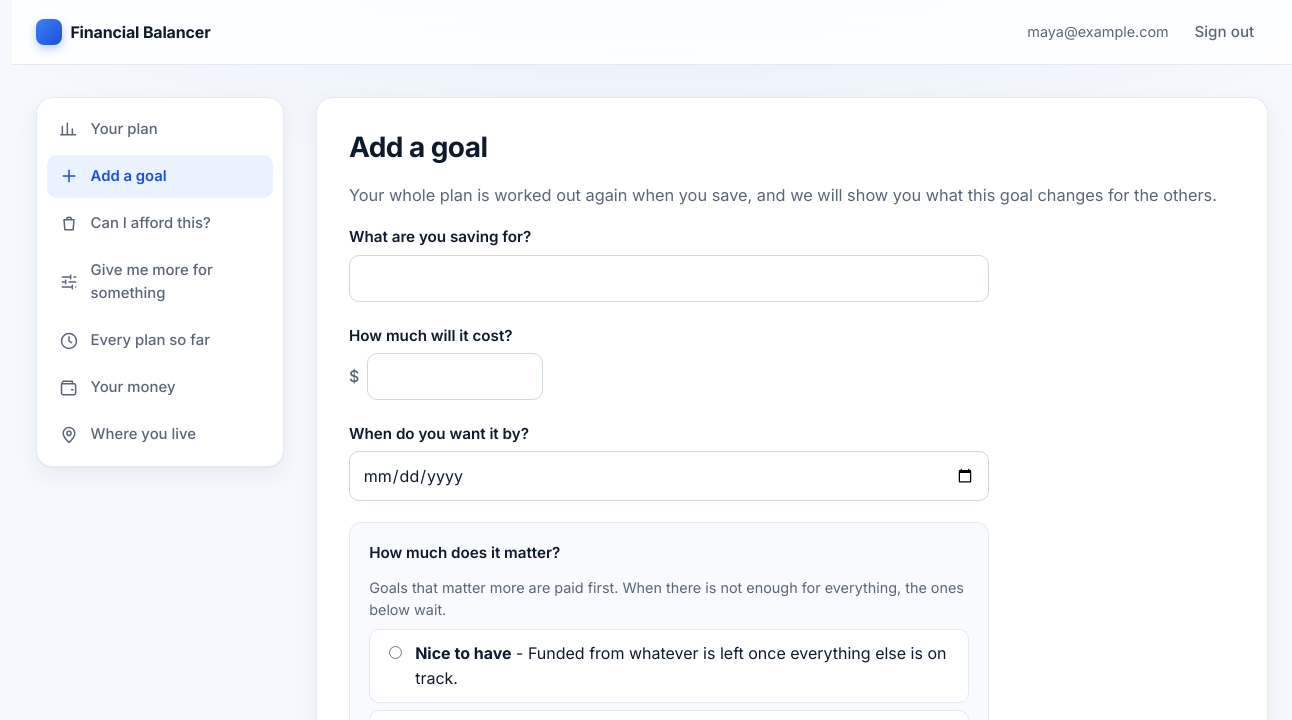
adding a goal › is sent once, however many times the button is pressed
In the field labelled "What are you saving for?": [669, 278] box [349, 255, 989, 302], type "Car"
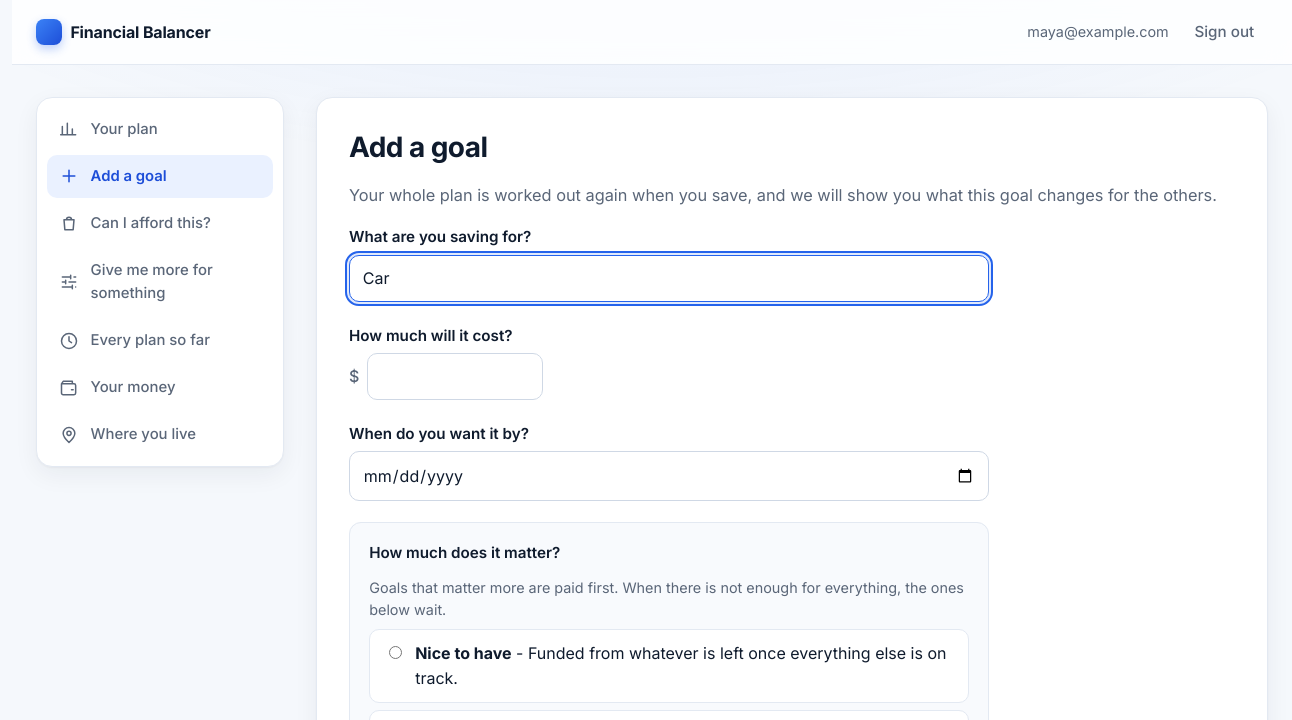
In the field labelled "How much will it cost?": [455, 377] box [367, 353, 543, 400], type "12000"
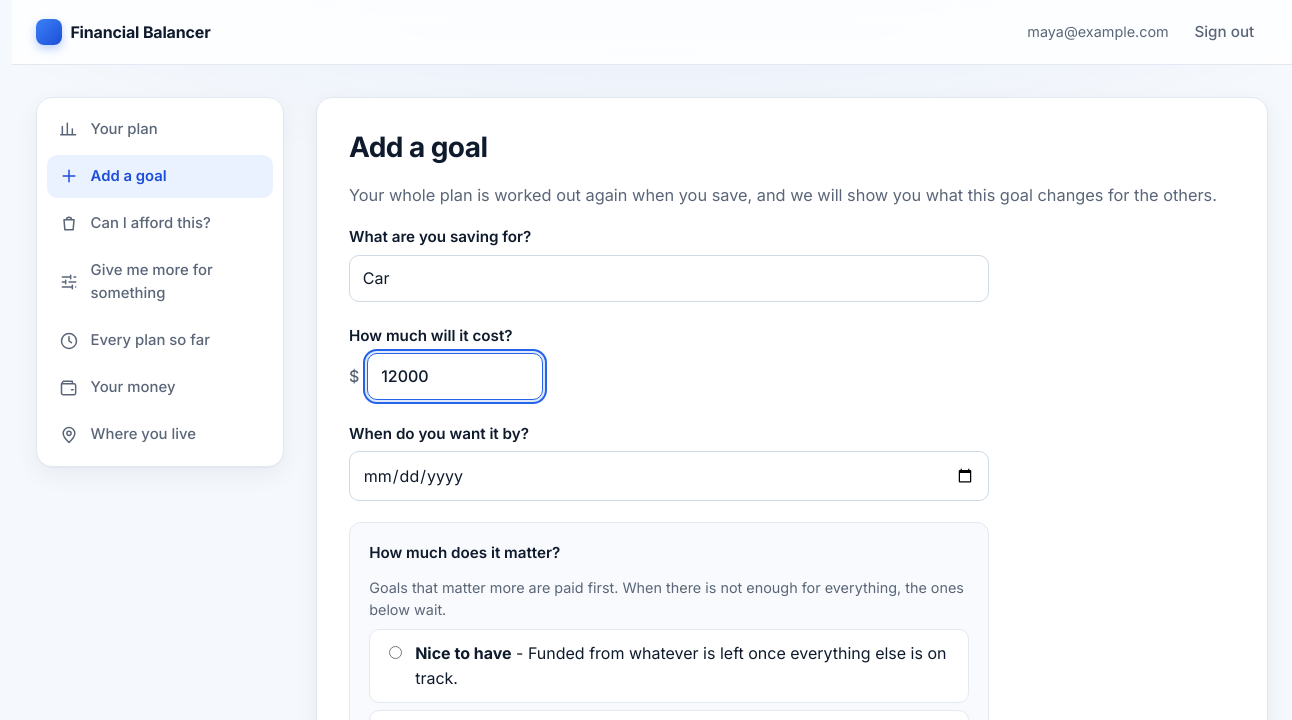
In the date field labelled "When do you want it by?": [669, 476] box [349, 451, 989, 501], type "2027-06-30"
(page scrolled)
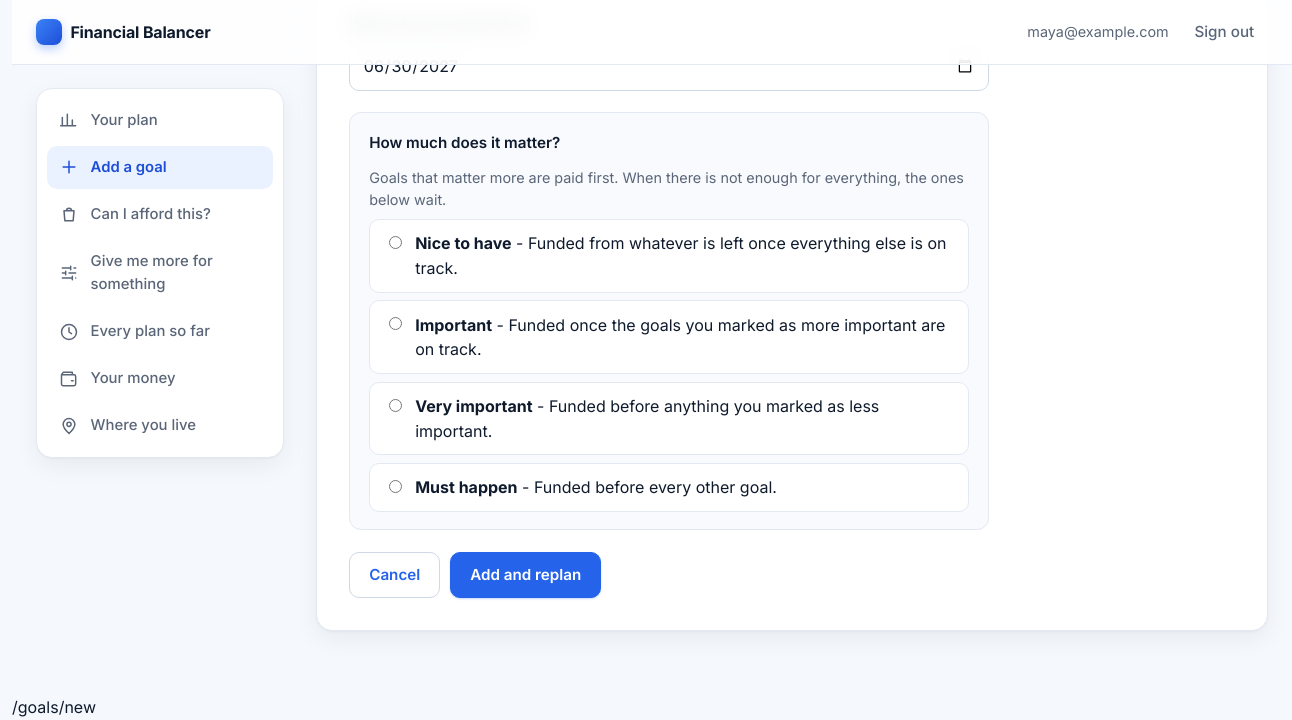
Click the radio button labelled "Very important": [395, 405] box [389, 398, 402, 412]
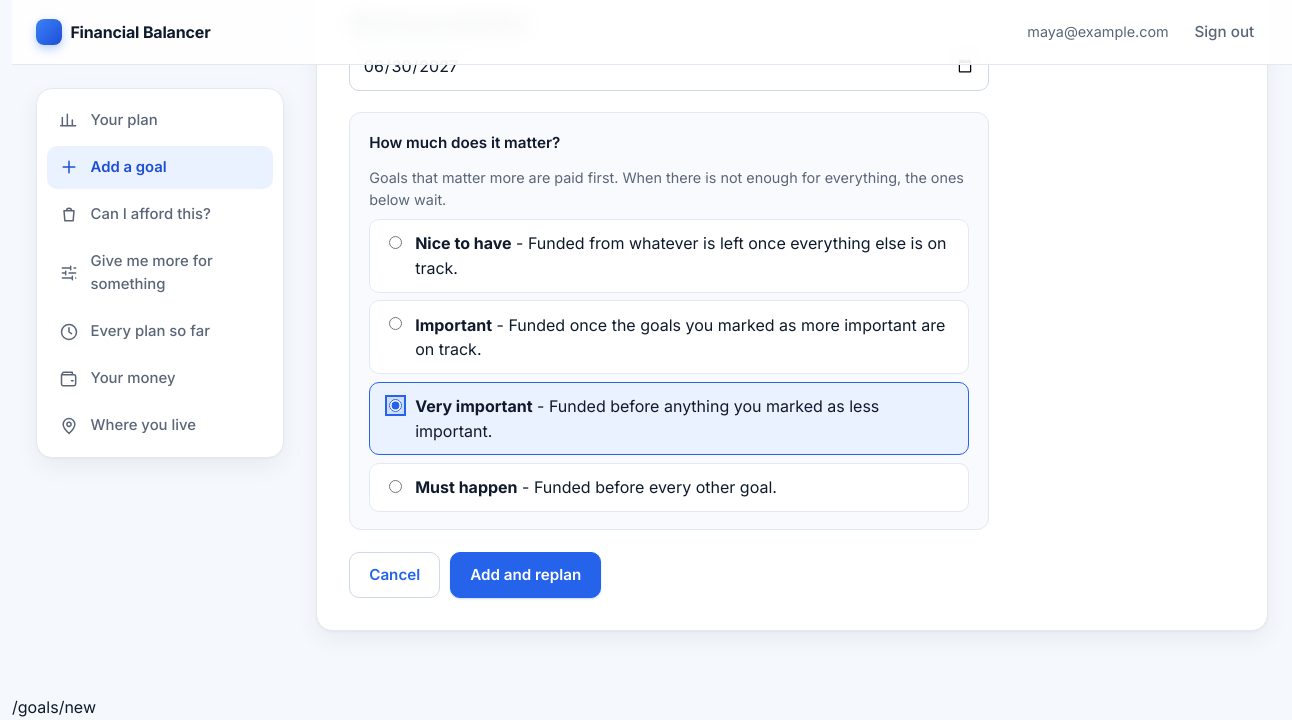
Click the button "Add and replan": [526, 575] box [450, 552, 601, 598]
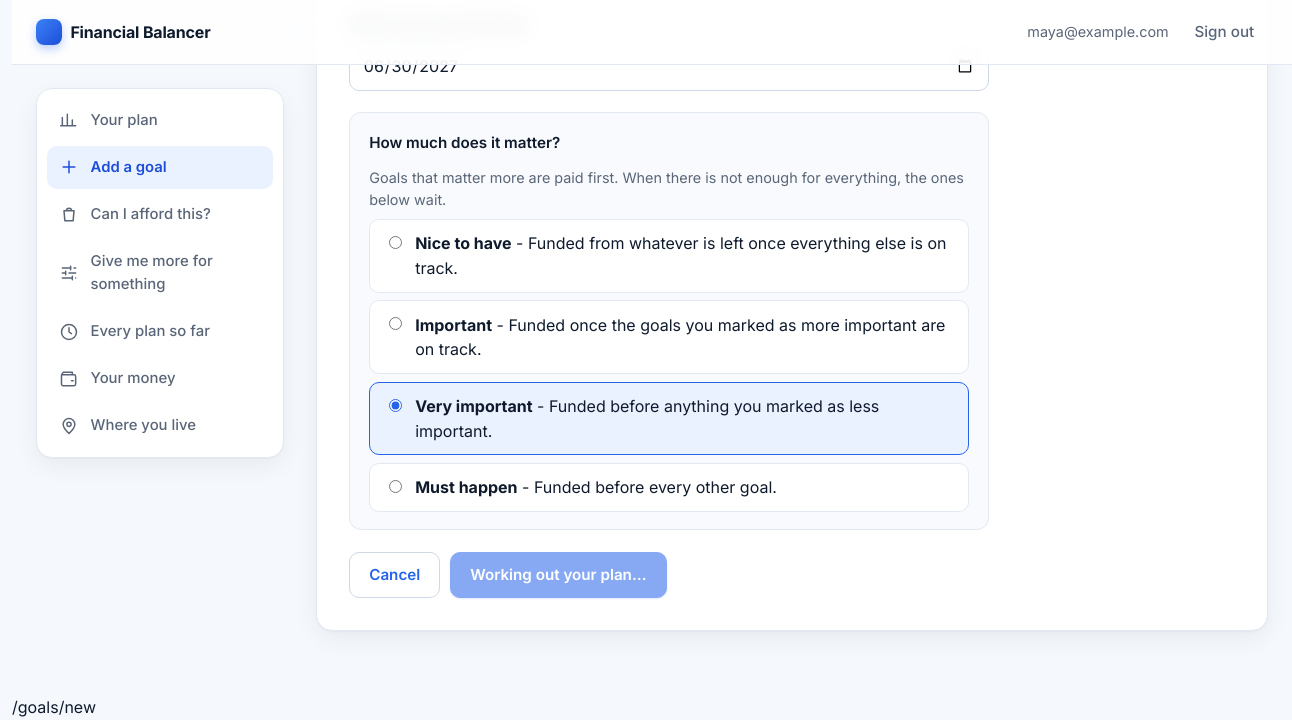
Click the button named "Add and replan": [558, 575] box [450, 552, 667, 598]
(page scrolled)
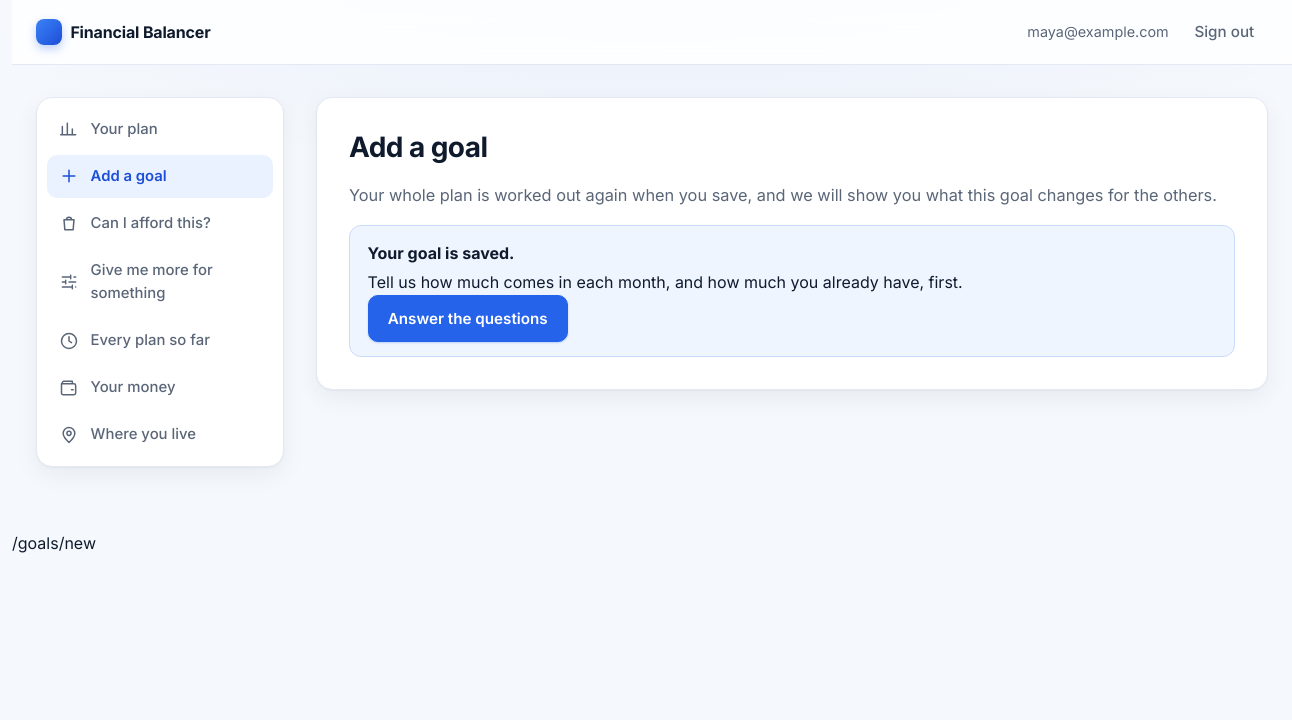
Expected: the text "Your goal is saved." is shown, [368, 243, 514, 263]
